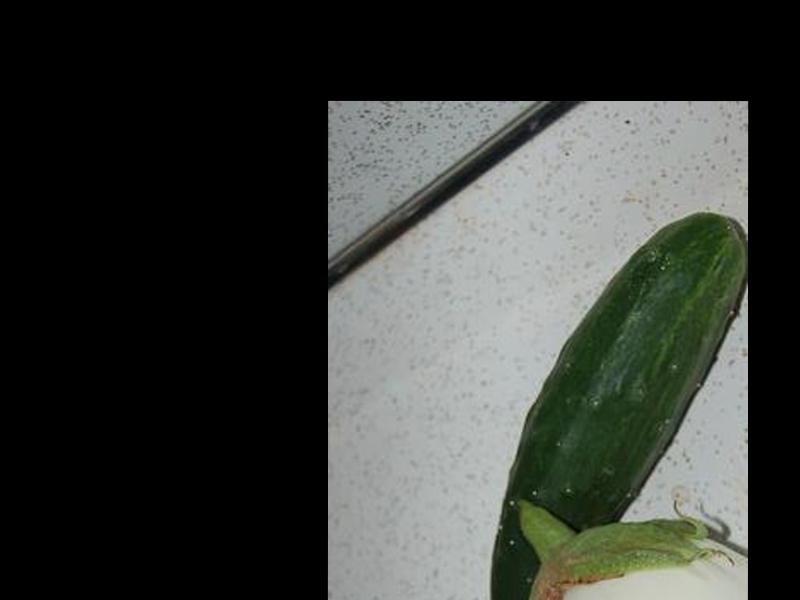Cucumber: (491, 213, 748, 600)
